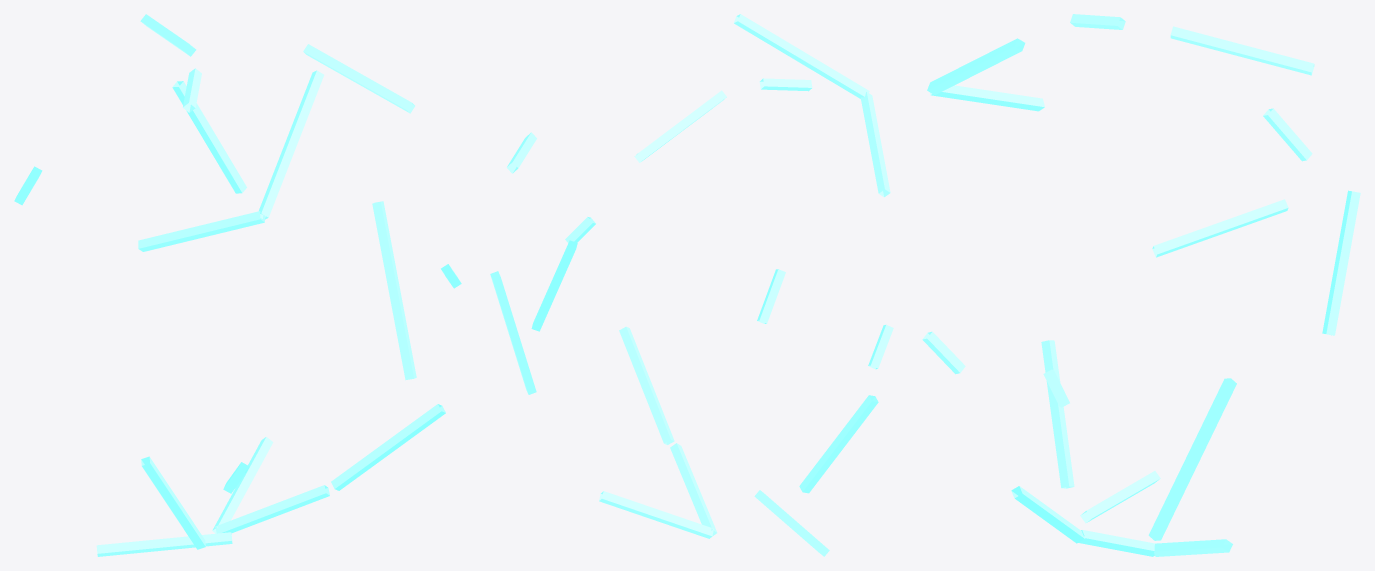
Rendered from core_cracks.glb.
The picture shows the model from 3 angles, left to right: view 1: azimuth 30°, elevation 25°; view 2: azimuth 150°, elevation 25°; view 3: azimuth 270°, elevation 25°; orthographic projection. The views are drawn at different scales.
Parts seen in each view (by area): view 1: core_cracks; view 2: core_cracks; view 3: core_cracks.
Part boxes in pixels (box(x1,y1,x2,y2)): core_cracks: box(14, 14, 461, 556); core_cracks: box(490, 14, 893, 556); core_cracks: box(922, 14, 1360, 556).
Size of the model in its own units: 0.8094 by 1.16 by 0.8627.
